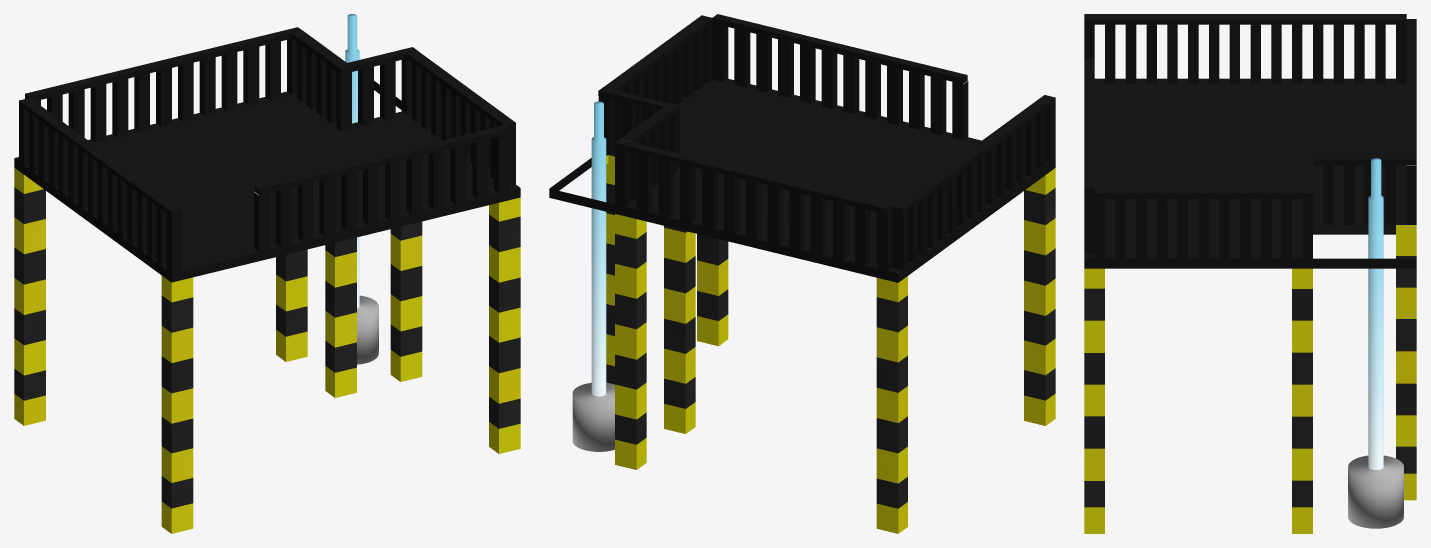
File: Destilador grande.fbx
3 views of the same model, side by side, from view 1: azimuth 30°, elevation 25°; view 2: azimuth 150°, elevation 25°; view 3: azimuth 270°, elevation 25° (orthographic). The views are drawn at different scales.
Parts seen in each view (by area): view 1: Cube; view 2: Cube; view 3: Cube.
Boxes of the visible parts, x1,y1,x2,y2 form: Cube: (14,14,520,533); Cube: (549,14,1055,533); Cube: (1084,14,1416,533).
Bounding box in the file's own units: 602 × 558 × 470.
